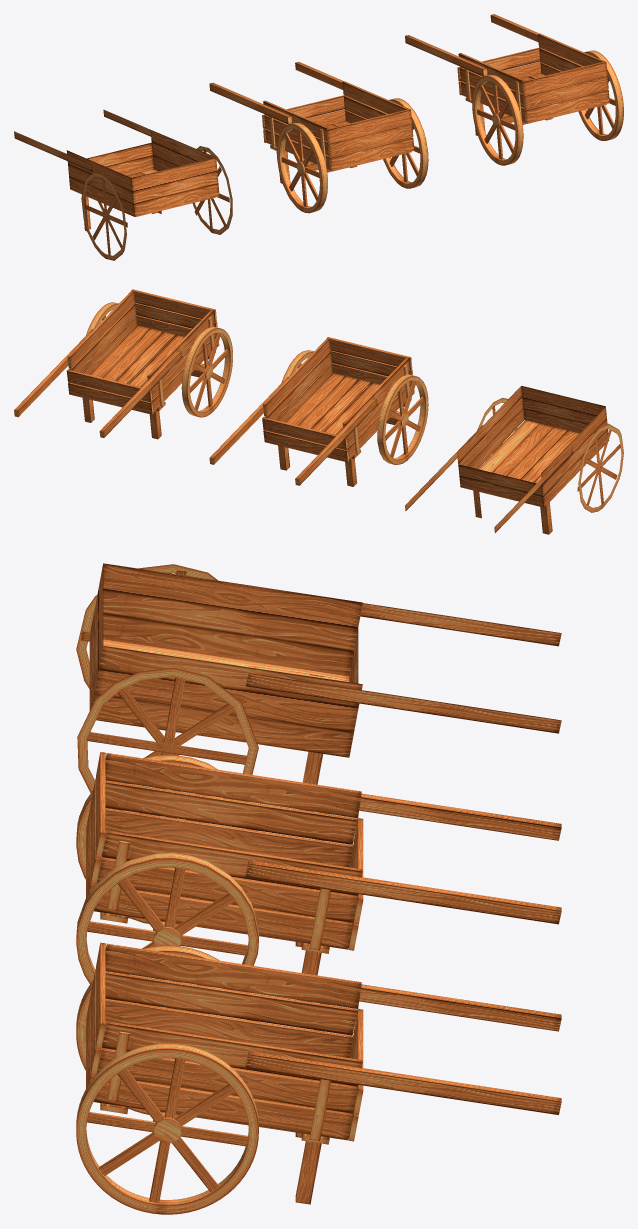
The picture shows the model from 3 angles, top to bottom: view 1: azimuth 30°, elevation 25°; view 2: azimuth 150°, elevation 25°; view 3: azimuth 270°, elevation 25°; orthographic projection. The views are drawn at different scales.
Parts seen in each view (by area): view 1: Carreta_L0, Carreta_L1, Carreta_L2; view 2: Carreta_L1, Carreta_L0, Carreta_L2; view 3: Carreta_L0, Carreta_L1, Carreta_L2.
Part boxes in pixels (left/top/right/bottom): Carreta_L0: left=405, top=14, right=623, bottom=165; Carreta_L1: left=209, top=62, right=428, bottom=213; Carreta_L2: left=14, top=109, right=232, bottom=260; Carreta_L1: left=209, top=337, right=428, bottom=486; Carreta_L0: left=14, top=289, right=232, bottom=439; Carreta_L2: left=405, top=386, right=623, bottom=534; Carreta_L0: left=76, top=942, right=561, bottom=1214; Carreta_L1: left=76, top=752, right=561, bottom=1014; Carreta_L2: left=76, top=563, right=561, bottom=823.
Size of the model in its own units: 763 by 136 by 323.
Materials: 1 (1 with a texture image).
